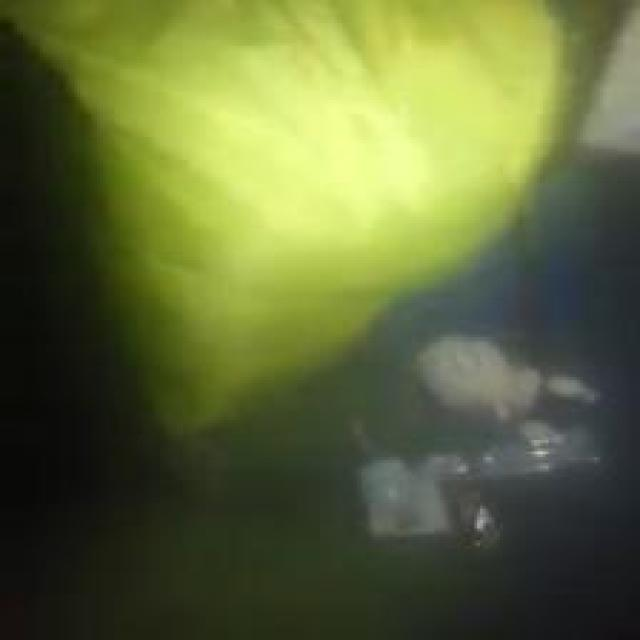other: (46, 15, 572, 378)
